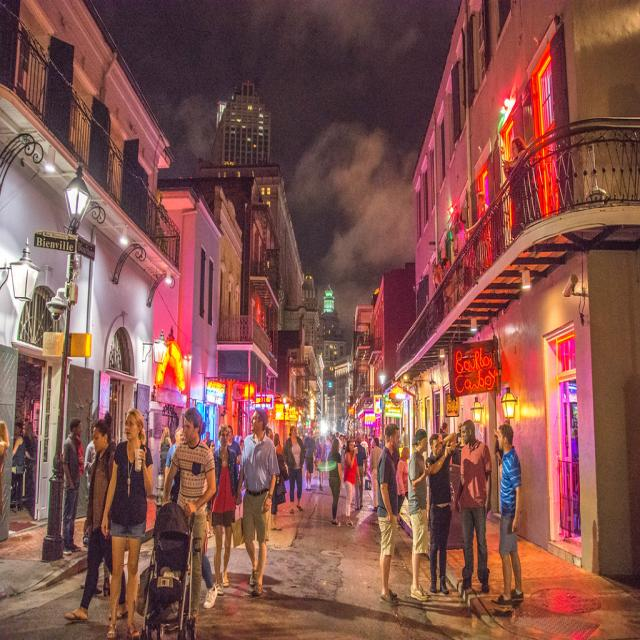Street Light: (41, 176, 91, 562), (379, 372, 386, 470)
